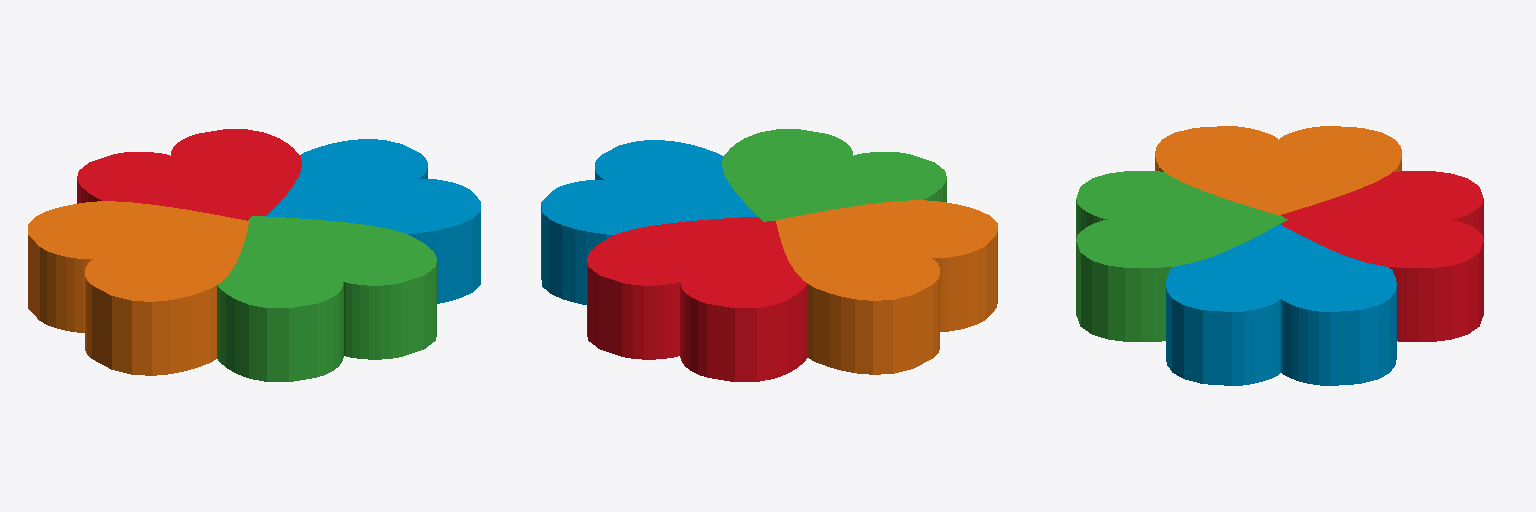
File: tinker.obj
3 renders of one model, left to right at view 1: azimuth 30°, elevation 25°; view 2: azimuth 150°, elevation 25°; view 3: azimuth 270°, elevation 25°, orthographic.
Visible parts, largest first — view 1: obj_0; view 2: obj_0; view 3: obj_0.
Part boxes in pixels (left/top/right/bottom): obj_0: left=28, top=129, right=480, bottom=381; obj_0: left=541, top=129, right=997, bottom=381; obj_0: left=1076, top=126, right=1483, bottom=385.
Bounding box in the file's own units: 54 × 10 × 50.